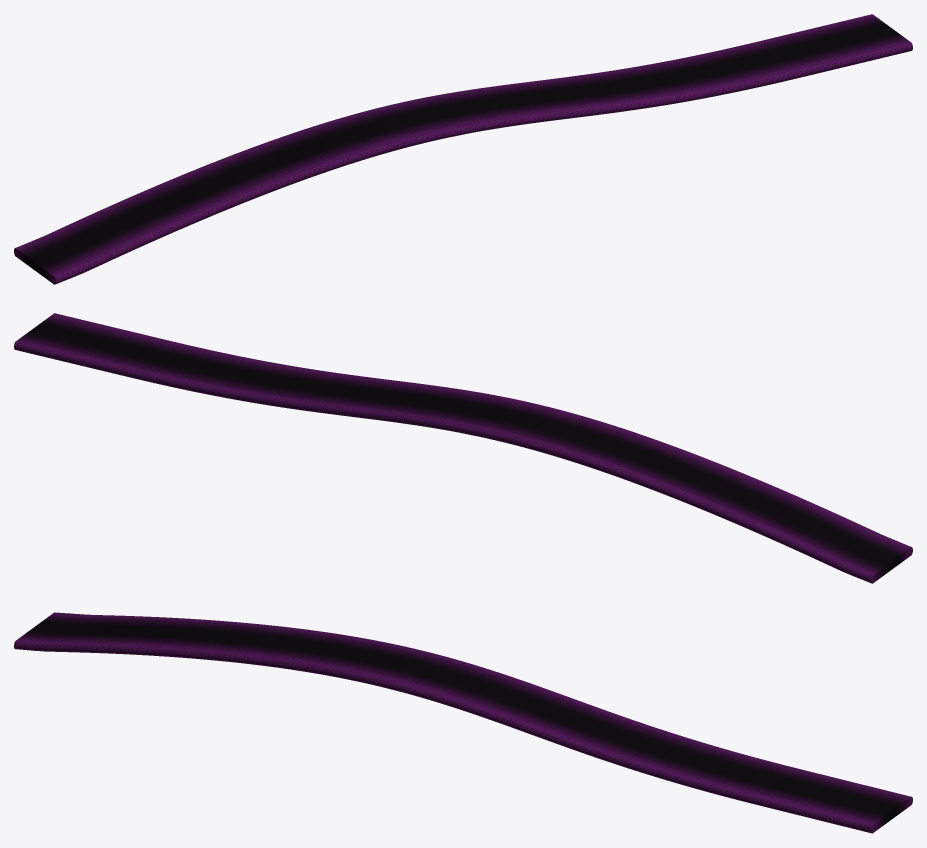
The model's file is level-02-track-14.glb.
3 renders of one model, top to bottom at view 1: azimuth 30°, elevation 25°; view 2: azimuth 150°, elevation 25°; view 3: azimuth 330°, elevation 25°, orthographic.
Visible parts, largest first — view 1: track-14; view 2: track-14; view 3: track-14.
Part boxes in pixels (x1,y1,x2,y2): track-14: [14, 14, 912, 284]; track-14: [14, 313, 912, 583]; track-14: [14, 612, 912, 833].
Size of the model in its own units: 43.75 by 2.91 by 3.69.
Materials: 2 (2 with a texture image).
